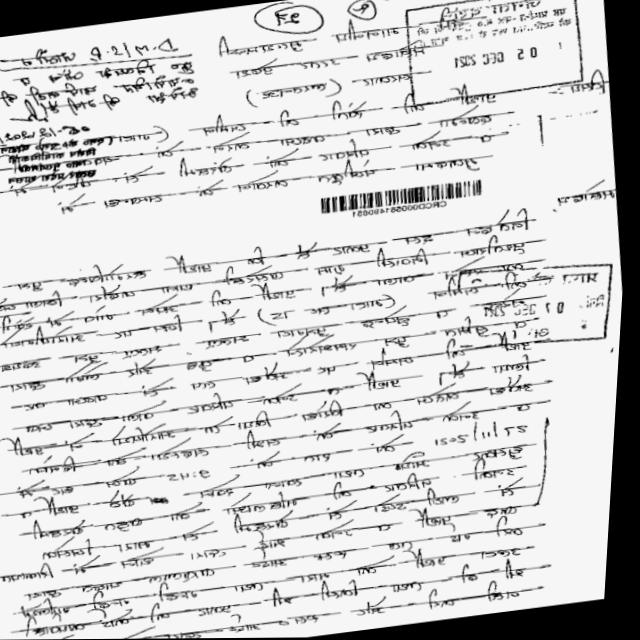antritgovtstamp: (432, 260, 624, 361)
barcode: (304, 174, 495, 228)
jantadarsan: (392, 0, 591, 108)
signnamestamp: (0, 87, 128, 194)
